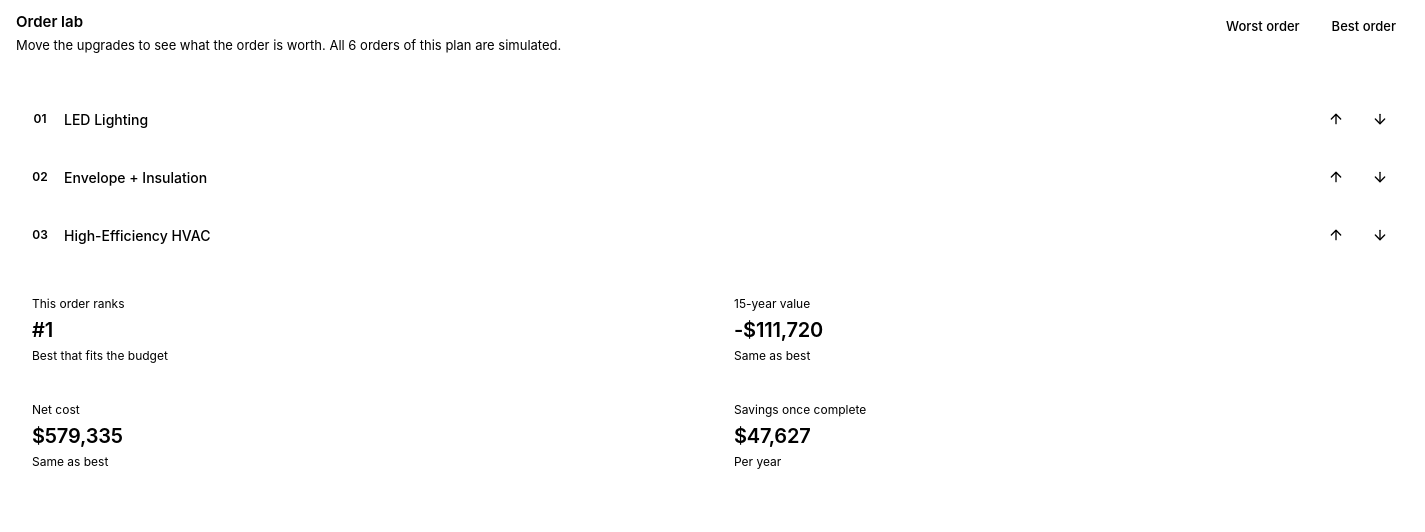
Test: OrderLab › re-ranks when an upgrade moves
What coordinates should you click on to do the following:
click the button named "Move High-Efficiency HVAC earlier"
I would click on:
 (1336, 235)
Its box is [1320,219,1352,251].
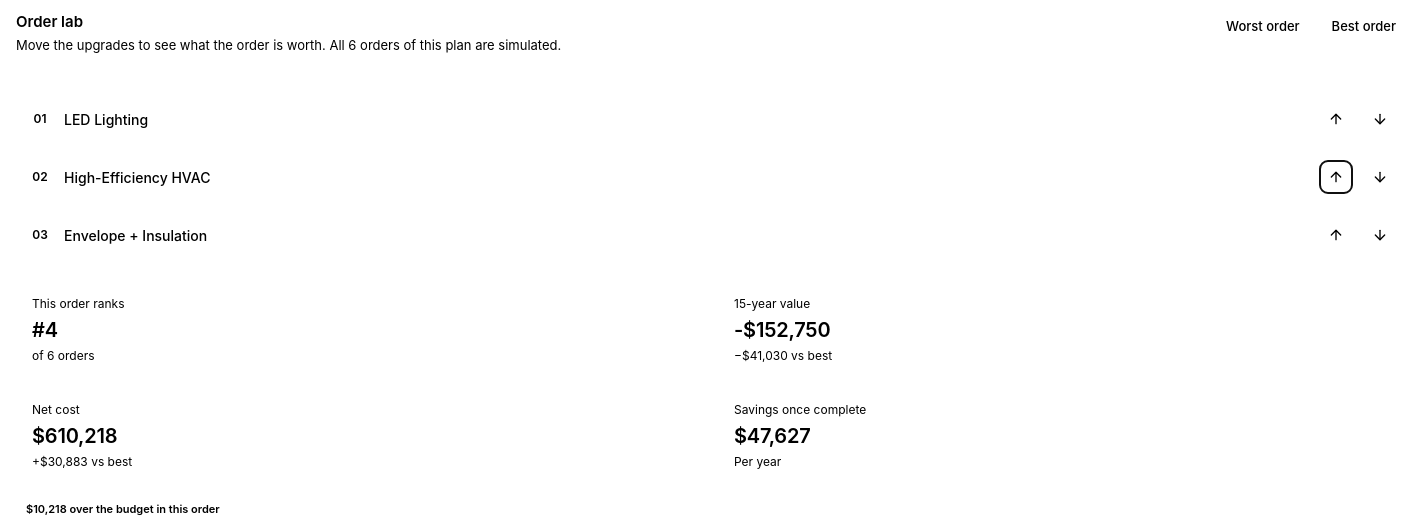
Expected: the list item "02 High-Efficiency HVAC" is shown, [16,153,1408,201]
Result: the text "#1" is gone
